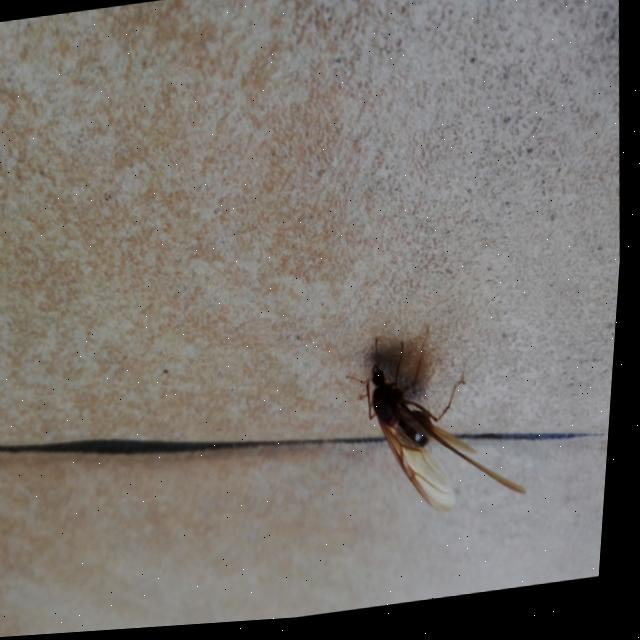Alive-Male-Alate: (340, 321, 544, 532)
